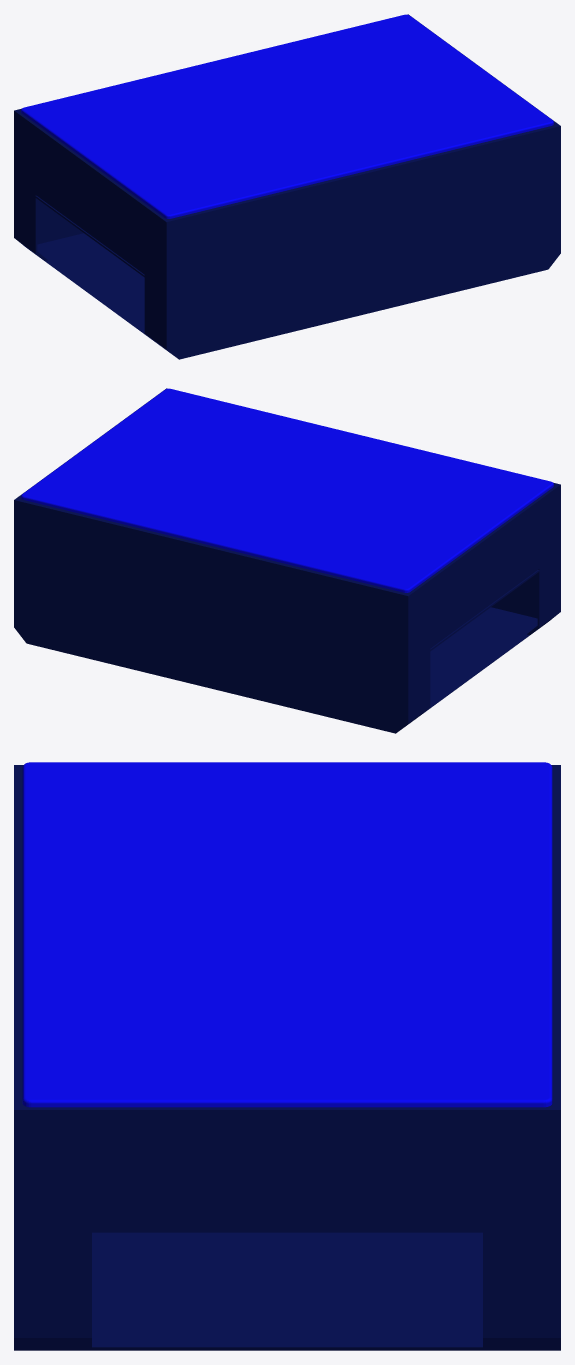
The model's file is main_body.dae.
3 renders of one model, top to bottom at view 1: azimuth 30°, elevation 25°; view 2: azimuth 150°, elevation 25°; view 3: azimuth 270°, elevation 25°, orthographic. The views are drawn at different scales.
Parts seen in each view (by area): view 1: main_body; view 2: main_body; view 3: main_body.
Part boxes in pixels (x1,y1,x2,y2): main_body: (14, 14, 560, 359); main_body: (14, 388, 560, 733); main_body: (14, 762, 560, 1350).
Size of the model in its own units: 0.47 by 0.315 by 0.164.
